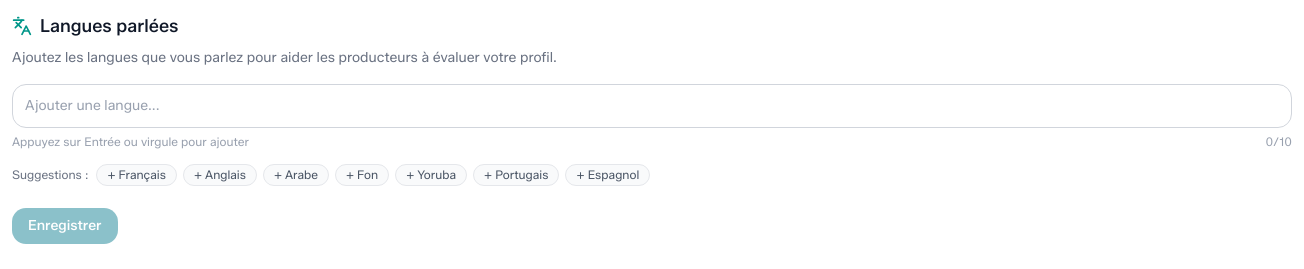
Test: LanguesTagInput › adds a tag on Enter key
The image size is (1304, 269).
Type "Français" into the field with test id "langue-input" at [652, 106], box [25,96,1279,116]
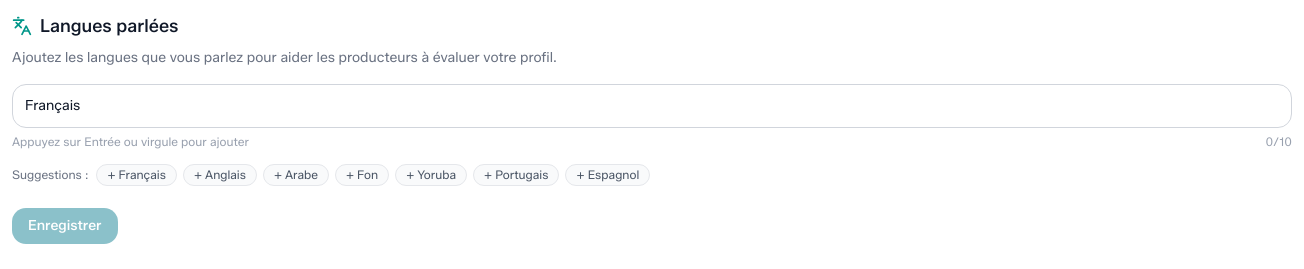
Press Enter in the field with test id "langue-input", box [25,96,1279,116]
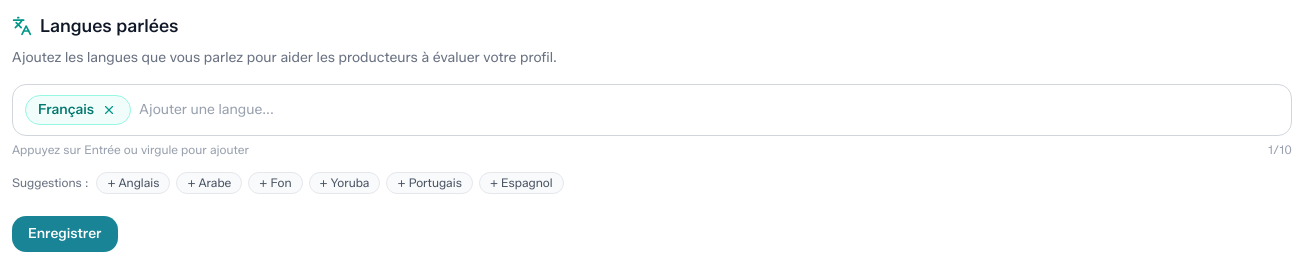
Expected: the element with test id "langue-tag" reads "Français", [38,101,94,118]
Expected: the number of elements with test id "langue-tag" is 1, [25,95,131,125]
